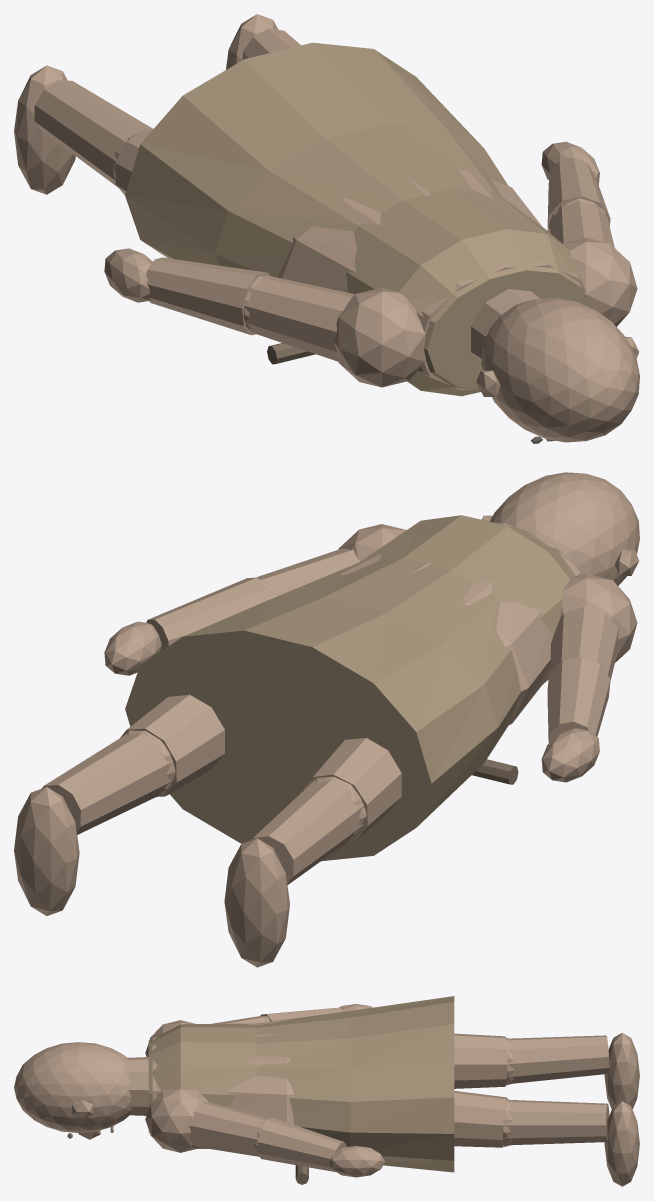
File: woman_slender__plain_base.glb
3 renders of one model, top to bottom at view 1: azimuth 30°, elevation 25°; view 2: azimuth 150°, elevation 25°; view 3: azimuth 270°, elevation 25°, orthographic. The views are drawn at different scales.
Parts seen in each view (by area): view 1: part_027, part_010, part_017, part_008, part_002, part_018, part_020, part_003, part_022, part_025, part_023, part_021 (+6 smaller); view 2: part_027, part_010, part_006, part_007, part_003, part_002, part_004, part_008, part_000, part_020, part_025, part_018 (+6 smaller); view 3: part_027, part_010, part_006, part_002, part_025, part_023, part_008, part_000, part_022, part_004, part_007, part_003 (+5 smaller).
Part boxes in pixels (box(x1,y1,x2,y2)): part_027: box(125, 42, 588, 396); part_010: box(481, 297, 639, 442); part_017: box(334, 288, 425, 387); part_008: box(277, 168, 586, 390); part_002: box(34, 80, 153, 187); part_018: box(244, 276, 354, 361); part_020: box(146, 257, 270, 335); part_003: box(14, 65, 75, 194); part_022: box(562, 237, 637, 326); part_025: box(547, 157, 610, 233); part_023: box(550, 200, 614, 247); part_021: box(104, 248, 152, 302); part_027: box(125, 515, 575, 861); part_010: box(490, 472, 639, 585); part_006: box(42, 733, 173, 834); part_007: box(14, 787, 79, 915); part_003: box(224, 838, 289, 967); part_002: box(251, 779, 363, 884); part_004: box(120, 694, 224, 796); part_008: box(338, 523, 581, 724); part_000: box(300, 738, 401, 841); part_020: box(547, 656, 610, 743); part_025: box(146, 577, 272, 651); part_018: box(550, 606, 618, 680); part_027: box(148, 996, 454, 1172); part_010: box(14, 1042, 131, 1132); part_006: box(503, 1100, 609, 1145); part_002: box(507, 1035, 609, 1083); part_025: box(257, 1117, 346, 1171); part_023: box(189, 1102, 268, 1156); part_008: box(152, 1020, 294, 1124); part_000: box(454, 1033, 507, 1088); part_022: box(145, 1087, 208, 1152); part_004: box(454, 1091, 507, 1147); part_007: box(604, 1101, 639, 1186); part_003: box(604, 1033, 639, 1109).
Size of the model in its own units: 1.5 by 0.6435 by 2.56.
